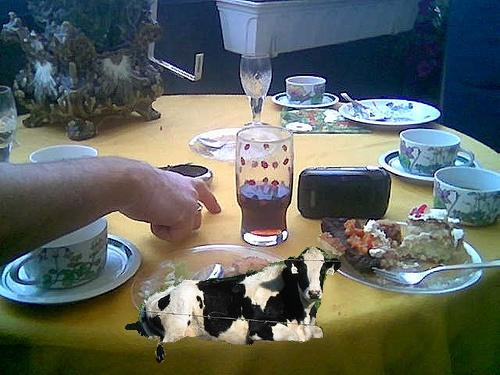tampered: (126, 247, 341, 363)
